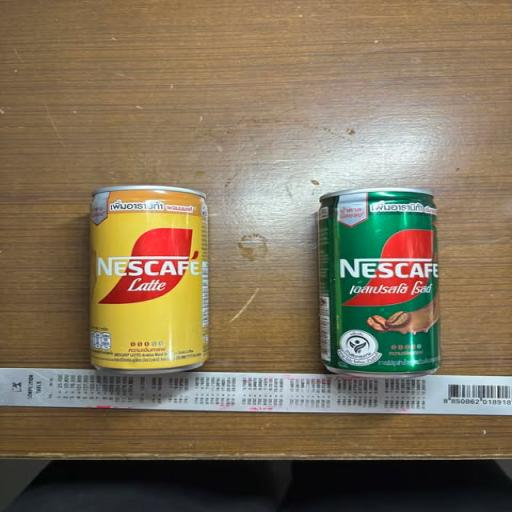canned: (71, 170, 230, 392), (298, 175, 458, 388)
